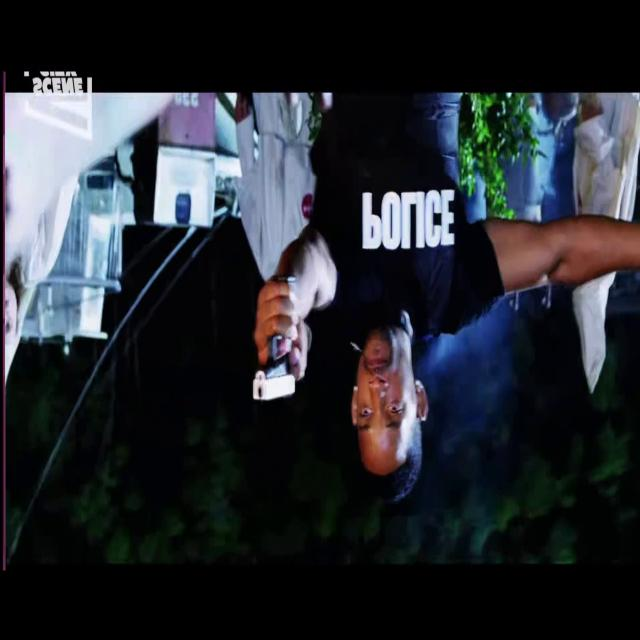weapons: (239, 268, 309, 424)
